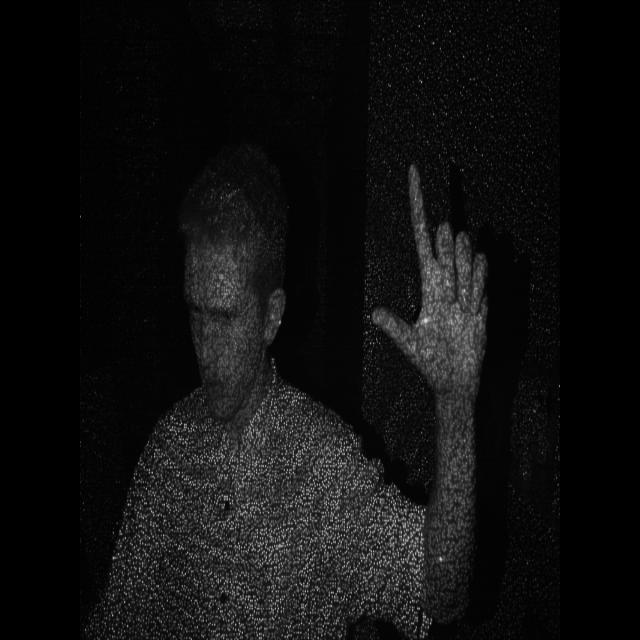L: (360, 145, 486, 391)
